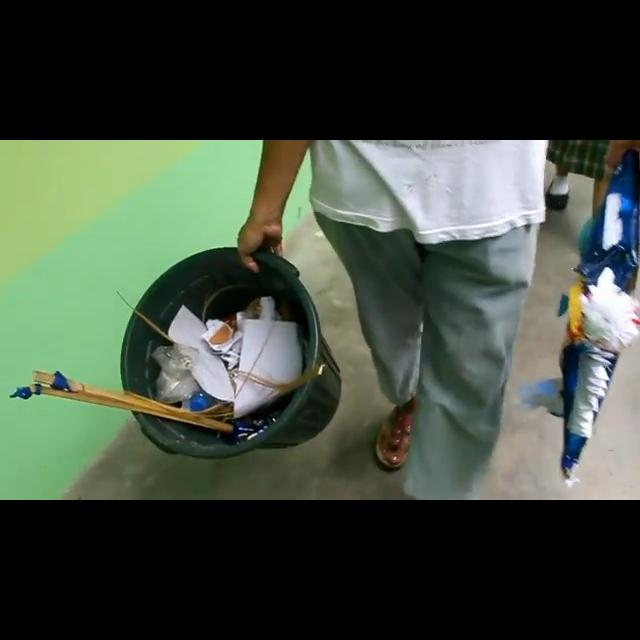paper: (157, 306, 315, 417)
